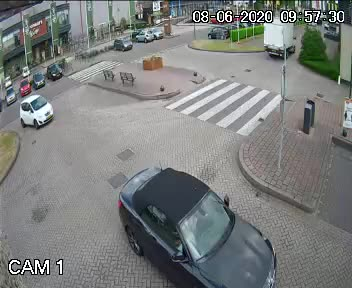car: (113, 158, 291, 288), (257, 12, 304, 67), (10, 94, 57, 127)
